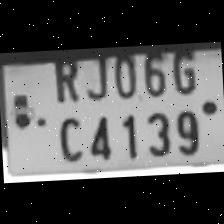0: (107, 46, 139, 99)
1: (111, 106, 142, 162)
3: (140, 105, 172, 158)
4: (82, 106, 114, 162)
6: (137, 50, 169, 100)
9: (169, 103, 201, 155)
C: (51, 108, 85, 162)
G: (165, 44, 199, 97)
J: (80, 48, 111, 100)
R: (44, 50, 82, 106)
